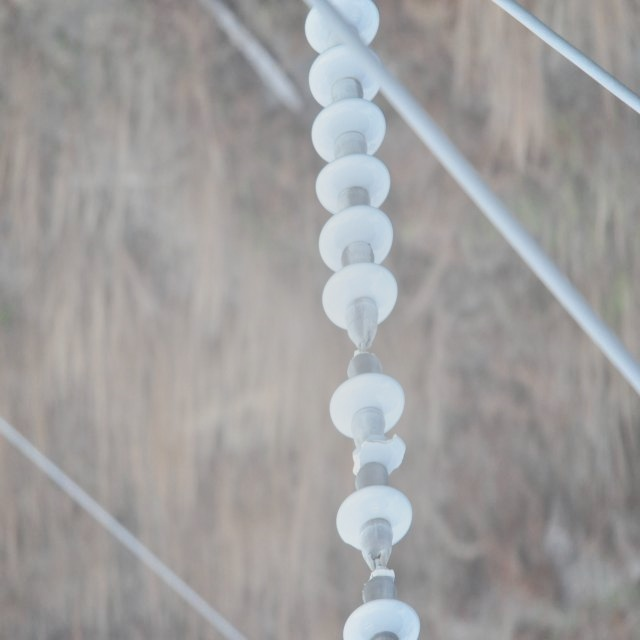broken: (349, 428, 406, 474), (357, 561, 398, 590), (344, 341, 380, 363)
insulator: (303, 1, 422, 640)
